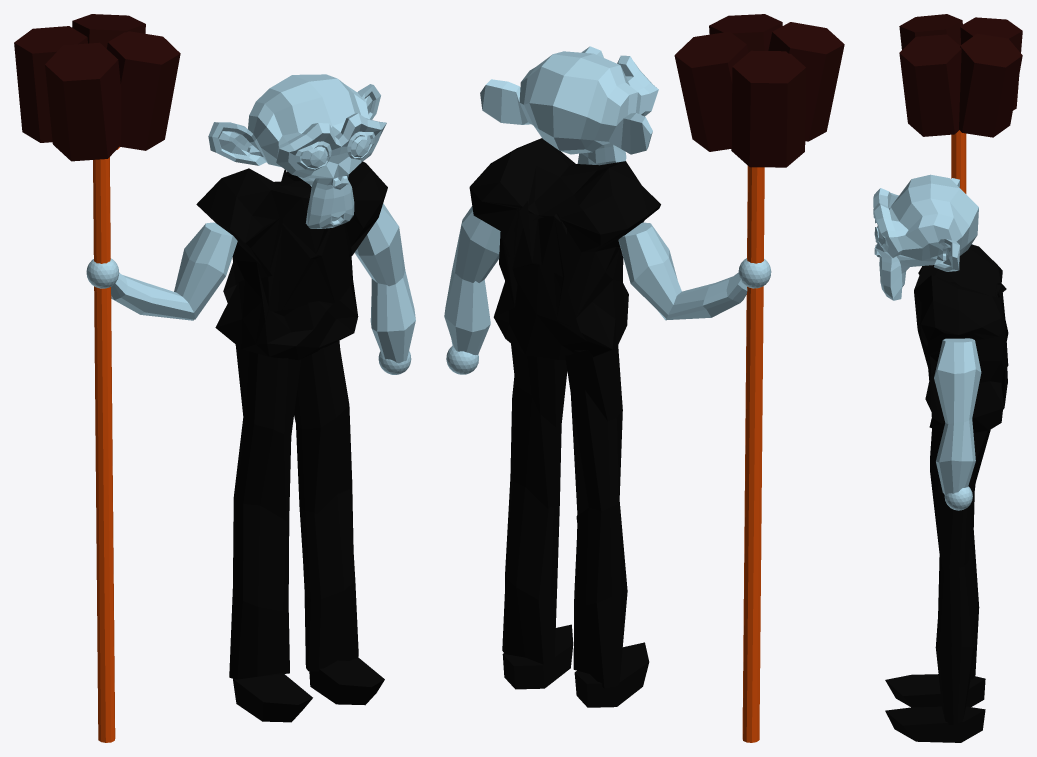
Rendered from MonkeyElder.fbx.
The picture shows the model from 3 angles, left to right: view 1: azimuth 30°, elevation 25°; view 2: azimuth 150°, elevation 25°; view 3: azimuth 270°, elevation 25°; orthographic projection. The views are drawn at different scales.
Parts seen in each view (by area): view 1: Icosphere.001, Cylinder.004, Cylinder.003, Suzanne, Cylinder.002, Cylinder.008, Cylinder.009, Cylinder.001, Cylinder, Cylinder.007, Cylinder.006, Cylinder.005 (+2 smaller); view 2: Icosphere.001, Cylinder.004, Cylinder.003, Suzanne, Cylinder.002, Cylinder.007, Cylinder.010, Cylinder.001, Cylinder, Cylinder.008, Cylinder.006, Cylinder.005 (+3 smaller); view 3: Icosphere.001, Suzanne, Cylinder.003, Cylinder, Cylinder.009, Cylinder.010, Cylinder.005, Cylinder.006, Cylinder.004, Cylinder.008, Cylinder.007, Cylinder.002 (+1 smaller).
Part boxes in pixels (<box>): Icosphere.001: <box>196,161,387,360</box>; Cylinder.004: <box>229,345,300,679</box>; Cylinder.003: <box>294,341,358,671</box>; Suzanne: <box>208,74,386,228</box>; Cylinder.002: <box>93,157,115,742</box>; Cylinder.008: <box>45,42,121,161</box>; Cylinder.009: <box>106,31,180,150</box>; Cylinder.001: <box>111,222,237,320</box>; Cylinder: <box>354,203,415,363</box>; Cylinder.007: <box>14,26,87,142</box>; Cylinder.006: <box>233,674,312,722</box>; Cylinder.005: <box>309,657,384,705</box>; Icosphere.001: <box>469,138,660,359</box>; Cylinder.004: <box>565,345,627,688</box>; Cylinder.003: <box>502,344,567,667</box>; Suzanne: <box>480,46,658,165</box>; Cylinder.002: <box>742,166,764,742</box>; Cylinder.007: <box>731,50,806,167</box>; Cylinder.010: <box>674,31,748,151</box>; Cylinder.001: <box>618,222,747,320</box>; Cylinder: <box>444,206,500,354</box>; Cylinder.008: <box>768,22,844,141</box>; Cylinder.006: <box>574,642,649,707</box>; Cylinder.005: <box>502,624,573,689</box>; Icosphere.001: <box>914,244,1008,432</box>; Suzanne: <box>873,174,978,300</box>; Cylinder.003: <box>934,429,990,724</box>; Cylinder: <box>934,338,981,495</box>; Cylinder.009: <box>899,34,961,136</box>; Cylinder.010: <box>959,33,1022,137</box>; Cylinder.005: <box>885,706,985,742</box>; Cylinder.006: <box>885,674,985,707</box>; Cylinder.004: <box>930,428,979,679</box>; Cylinder.008: <box>899,14,962,49</box>; Cylinder.007: <box>960,17,1022,110</box>; Cylinder.002: <box>951,130,966,193</box>.
Bounding box in the file's own units: 596 × 1078 × 241.
